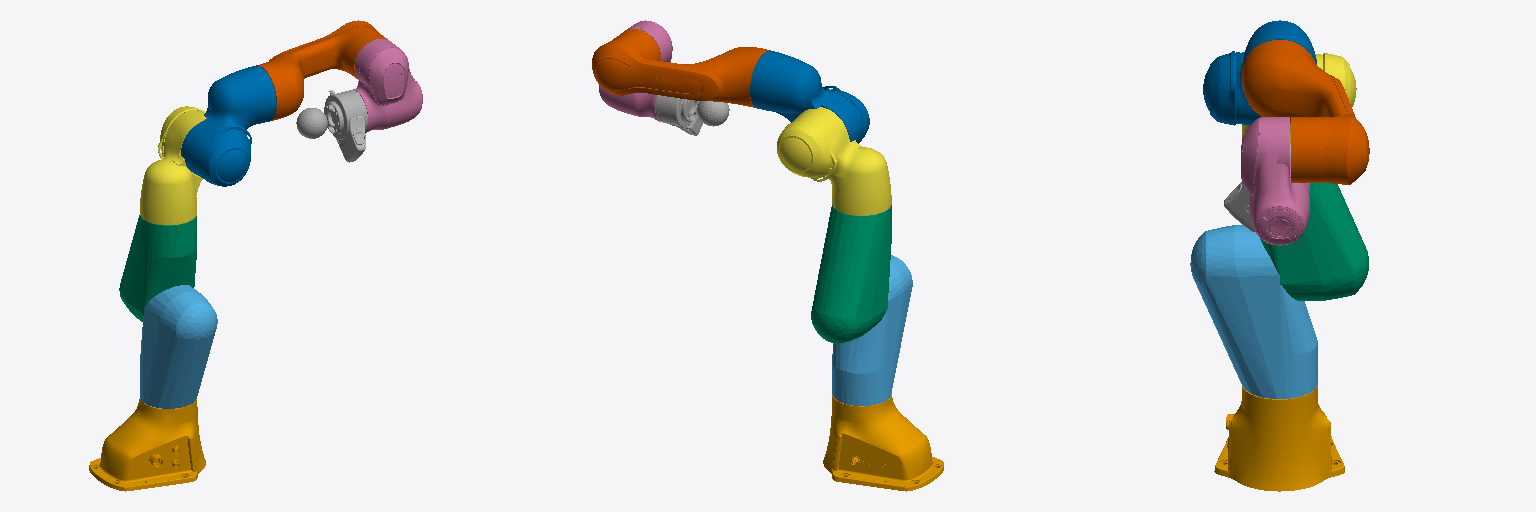
robot.urdf — panda:
<?xml version='1.0' encoding='utf-8'?>
<robot name="panda">

    <link name="link0">
      <inertial>
        <origin xyz="0 0 0.05" rpy="0 0 0" />
        <mass value="4" />
        <inertia ixx="0.4" iyy="0.4" izz="0.4" ixy="0" ixz="0" iyz="0" />
      </inertial>
      <visual>
        <geometry>
          <mesh filename="meshes/visual/link0.stl"/>
        </geometry>
      </visual>
<!--       <collision>
        <geometry>
          <mesh filename="meshes/collision/link0.stl"/>
        </geometry>
      </collision> -->
    </link>
    <link name="link1">
      <inertial>
        <origin xyz="0 0 -0.07" rpy="0 -0 0" />
        <mass value="4" />
        <inertia ixx="0.3" iyy="0.3" izz="0.3" ixy="0" ixz="0" iyz="0" />
      </inertial>
      <visual>
        <geometry>
          <mesh filename="meshes/visual/link1.stl"/>
        </geometry>
      </visual>
      <!-- <collision>
        <geometry>
          <mesh filename="meshes/collision/link1.stl"/>
        </geometry>
      </collision> -->
    </link>
    <link name="link2">
      <inertial>
        <origin xyz="0 -0.1 0" rpy="0 -0 0" />
        <mass value="3" />
        <inertia ixx="0.3" iyy="0.3" izz="0.3" ixy="0" ixz="0" iyz="0" />
      </inertial>
      <visual>
        <geometry>
          <mesh filename="meshes/visual/link2.stl"/>
        </geometry>
      </visual>
      <!-- <collision>
        <geometry>
          <mesh filename="meshes/collision/link2.stl"/>
        </geometry>
      </collision> -->
    </link>
    <link name="link3">
      <inertial>
        <origin xyz="0.04 0 -0.05" rpy="0 -0 0" />
        <mass value="3" />
        <inertia ixx="0.2" iyy="0.2" izz="0.2" ixy="0" ixz="0" iyz="0" />
      </inertial>
      <visual>
        <geometry>
          <mesh filename="meshes/visual/link3.stl"/>
        </geometry>
      </visual>
      <!-- <collision>
        <geometry>
          <mesh filename="meshes/collision/link3.stl"/>
        </geometry>
      </collision> -->
    </link>
    <link name="link4">
      <inertial>
        <origin xyz="-0.04 0.05 0" rpy="0 -0 0" />
        <mass value="3" />
        <inertia ixx="0.2" iyy="0.2" izz="0.2" ixy="0" ixz="0" iyz="0" />
      </inertial>
      <visual>
        <geometry>
          <mesh filename="meshes/visual/link4.stl"/>
        </geometry>
      </visual>
<!--       <collision>
        <geometry>
          <mesh filename="meshes/collision/link4.stl"/>
        </geometry>
      </collision> -->
    </link>
    <link name="link5">
      <inertial>
        <origin xyz="0 0 -0.15" rpy="0 -0 0" />
        <mass value="3" />
        <inertia ixx="0.2" iyy="0.2" izz="0.2" ixy="0" ixz="0" iyz="0" />
      </inertial>
      <visual>
        <geometry>
          <mesh filename="meshes/visual/link5.stl"/>
        </geometry>
      </visual>
<!--       <collision>
        <geometry>
          <mesh filename="meshes/collision/link5.stl"/>
        </geometry>
      </collision> -->
    </link>
    <link name="link6">
      <inertial>
        <origin xyz="0.06 0 0" rpy="0 -0 0" />
        <mass value="2" />
        <inertia ixx="0.1" iyy="0.1" izz="0.1" ixy="0" ixz="0" iyz="0" />
      </inertial>
      <visual>
        <geometry>
          <mesh filename="meshes/visual/link6.stl"/>
        </geometry>
      </visual>
      <!-- <collision>
        <geometry>
          <mesh filename="meshes/collision/link6.stl"/>
        </geometry>
      </collision> -->
    </link>
    <link name="link7">
      <inertial>
        <origin xyz="0 0 0.1" rpy="0 -0 0" />
        <mass value="1.0" />
        <inertia ixx="0.1" iyy="0.1" izz="0.25" ixy="0" ixz="0" iyz="0" />
      </inertial>
      <visual>
        <geometry>
          <mesh filename="meshes/visual/link7.stl"/>
        </geometry>
      </visual>
      <visual>
        <origin xyz="0 0 0.15" rpy="0 -0 0" />
        <geometry>
          <sphere radius="0.03"/>
        </geometry>
      </visual>
      <!-- <collision>
        <geometry>
          <mesh filename="meshes/collision/link7.stl"/>
        </geometry>
      </collision> -->
    </link>
    <joint name="joint1" type="revolute">
      <safety_controller k_position="100.0" k_velocity="40.0" soft_lower_limit="-2.8973" soft_upper_limit="2.8973"/>
      <origin rpy="0 0 0" xyz="0 0 0.333"/>
      <parent link="link0"/>
      <child link="link1"/>
      <axis xyz="0 0 1"/>
      <limit effort="87" lower="-2.8973" upper="2.8973" velocity="2.1750"/>
    </joint>
    <joint name="joint2" type="revolute">
      <safety_controller k_position="100.0" k_velocity="40.0" soft_lower_limit="-1.7628" soft_upper_limit="1.7628"/>
      <origin rpy="-1.57079632679 0 0" xyz="0 0 0"/>
      <parent link="link1"/>
      <child link="link2"/>
      <axis xyz="0 0 1"/>
      <calibration falling="-45.0" />
      <limit effort="87" lower="-1.7628" upper="1.7628" velocity="2.1750"/>
    </joint>
    <joint name="joint3" type="revolute">
      <safety_controller k_position="100.0" k_velocity="40.0" soft_lower_limit="-2.8973" soft_upper_limit="2.8973"/>
      <origin rpy="1.57079632679 0 0" xyz="0 -0.316 0"/>
      <parent link="link2"/>
      <child link="link3"/>
      <axis xyz="0 0 1"/>
      <limit effort="87" lower="-2.8973" upper="2.8973" velocity="2.1750"/>
    </joint>
    <joint name="joint4" type="revolute">
      <safety_controller k_position="100.0" k_velocity="40.0" soft_lower_limit="-3.0718" soft_upper_limit="-0.0698"/>
      <origin rpy="1.57079632679 0 0" xyz="0.0825 0 0"/>
      <parent link="link3"/>
      <child link="link4"/>
      <axis xyz="0 0 1"/>
      <calibration falling="-125.0" />
      <limit effort="87" lower="-3.0718" upper="-0.0698" velocity="2.1750"/>
    </joint>
    <joint name="joint5" type="revolute">
      <safety_controller k_position="100.0" k_velocity="40.0" soft_lower_limit="-2.8973" soft_upper_limit="2.8973"/>
      <origin rpy="-1.57079632679 0 0" xyz="-0.0825 0.384 0"/>
      <parent link="link4"/>
      <child link="link5"/>
      <axis xyz="0 0 1"/>
      <limit effort="12" lower="-2.8973" upper="2.8973" velocity="2.6100"/>
    </joint>
    <joint name="joint6" type="revolute">
      <safety_controller k_position="100.0" k_velocity="40.0" soft_lower_limit="-0.0175" soft_upper_limit="3.7525"/>
      <origin rpy="1.57079632679 0 0" xyz="0 0 0"/>
      <parent link="link5"/>
      <child link="link6"/>
      <axis xyz="0 0 1"/>
      <calibration falling="80.0" />
      <limit effort="12" lower="-0.0175" upper="3.7525" velocity="2.6100"/>
    </joint>
    <joint name="joint7" type="revolute">
      <safety_controller k_position="100.0" k_velocity="40.0" soft_lower_limit="-2.8973" soft_upper_limit="2.8973"/>
      <origin rpy="1.57079632679 0 0" xyz="0.088 0 0"/>
      <parent link="link6"/>
      <child link="link7"/>
      <axis xyz="0 0 1"/>
      <limit effort="12" lower="-2.8973" upper="2.8973" velocity="2.6100"/>
    </joint>
</robot>

--- Facts derived from the render (not from the file) ---
Views: 3 orthographic renders of the robot side by side, from view 1: azimuth 30°, elevation 25°; view 2: azimuth 150°, elevation 25°; view 3: azimuth 270°, elevation 25°.
Model panda with 8 links and 7 joints (7 revolute), rooted at link0, posed joints at zero except 1 at the middle of their limits (joint4 = -1.57).
Links seen in each view (by area): view 1: link1, link0, link4, link2, link3, link5, link6, link7; view 2: link2, link0, link5, link3, link1, link4, link7, link6; view 3: link1, link5, link0, link2, link6, link4, link3, link7.
Boxes of the visible links, x1,y1,x2,y2 form: link1: [140, 285, 217, 408]; link0: [89, 399, 205, 491]; link4: [181, 66, 276, 186]; link2: [119, 215, 196, 321]; link3: [140, 106, 206, 224]; link5: [256, 20, 387, 121]; link6: [353, 39, 422, 133]; link7: [296, 90, 367, 162]; link2: [811, 205, 891, 343]; link0: [823, 393, 943, 491]; link5: [592, 29, 770, 107]; link3: [777, 107, 891, 215]; link1: [832, 255, 912, 405]; link4: [750, 51, 869, 143]; link7: [655, 95, 729, 135]; link6: [599, 20, 672, 121]; link1: [1190, 225, 1317, 398]; link5: [1242, 40, 1369, 184]; link0: [1214, 385, 1344, 491]; link2: [1260, 183, 1368, 300]; link6: [1241, 117, 1309, 245]; link4: [1203, 20, 1316, 125]; link3: [1242, 53, 1356, 142]; link7: [1224, 143, 1309, 231].
Bounding box of the posed robot: 0.7022 × 0.2593 × 0.7865 m (x, y, z).
8 mesh visuals loaded from 8 distinct referenced files (8 binary STL).
